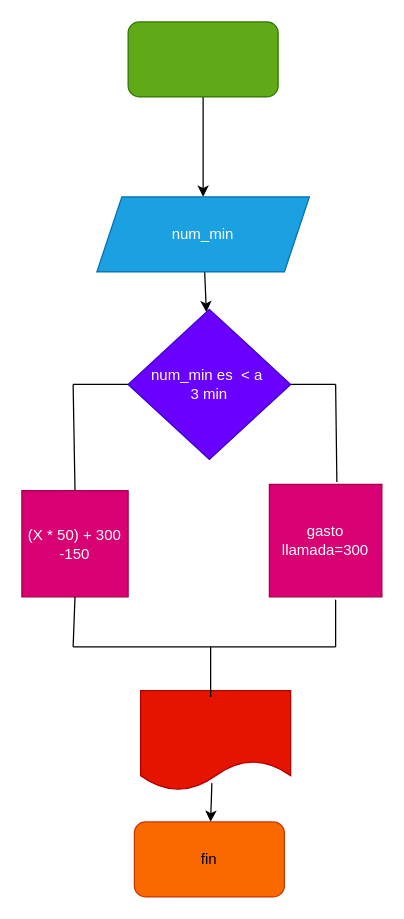
Some shapes in this 404 by 919 pixel diagram are drawn without their labels. The shapes that lost their labels are listed below. From the top down, each one's centre as x and y in pixels, then its label:
[202,59]: inicio
[215,740]: costo de la lamada
